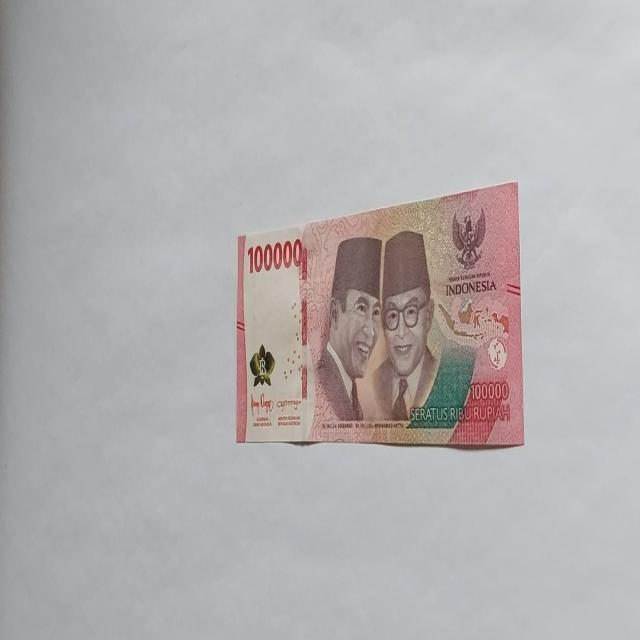seratus ribu rupiah: (236, 180, 524, 449)
